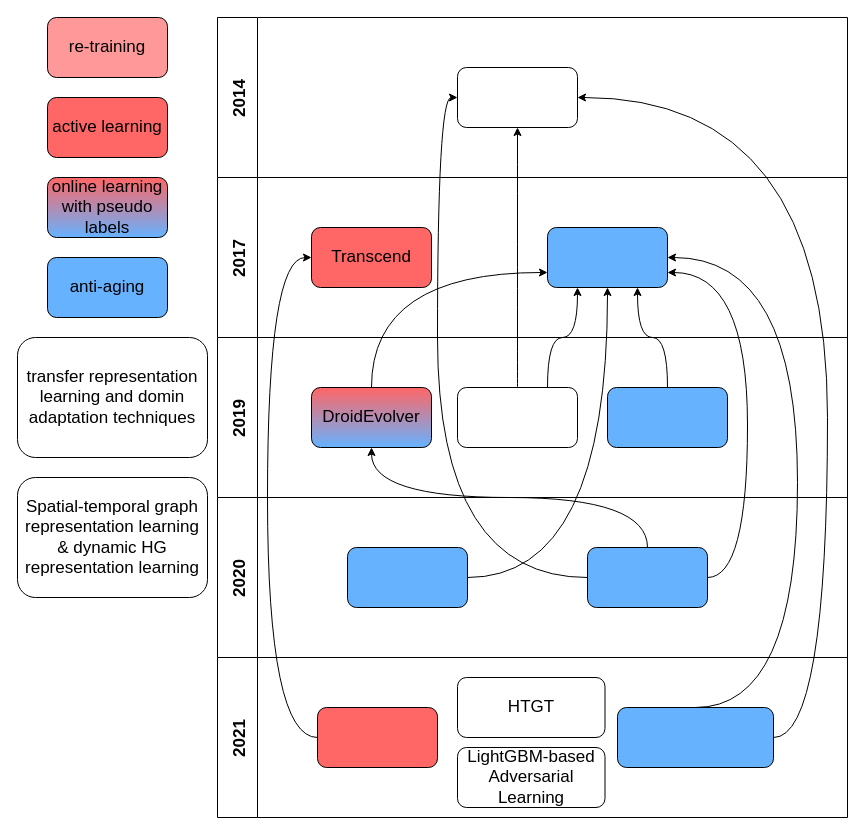
Some shapes in this 865 by 835 pixel diagram are drawn without their labels. Each missing label, with the box of its shape:
APIGraph: (586, 546, 708, 608)
CADE: (316, 706, 438, 768)
Drebin: (456, 66, 578, 128)
DroidSpan: (346, 546, 468, 608)
EveDroid: (606, 386, 728, 448)
GraphEvolveDroid: (616, 706, 774, 768)
MaMaDroid: (546, 226, 668, 288)
TESSERACT: (456, 386, 578, 448)
